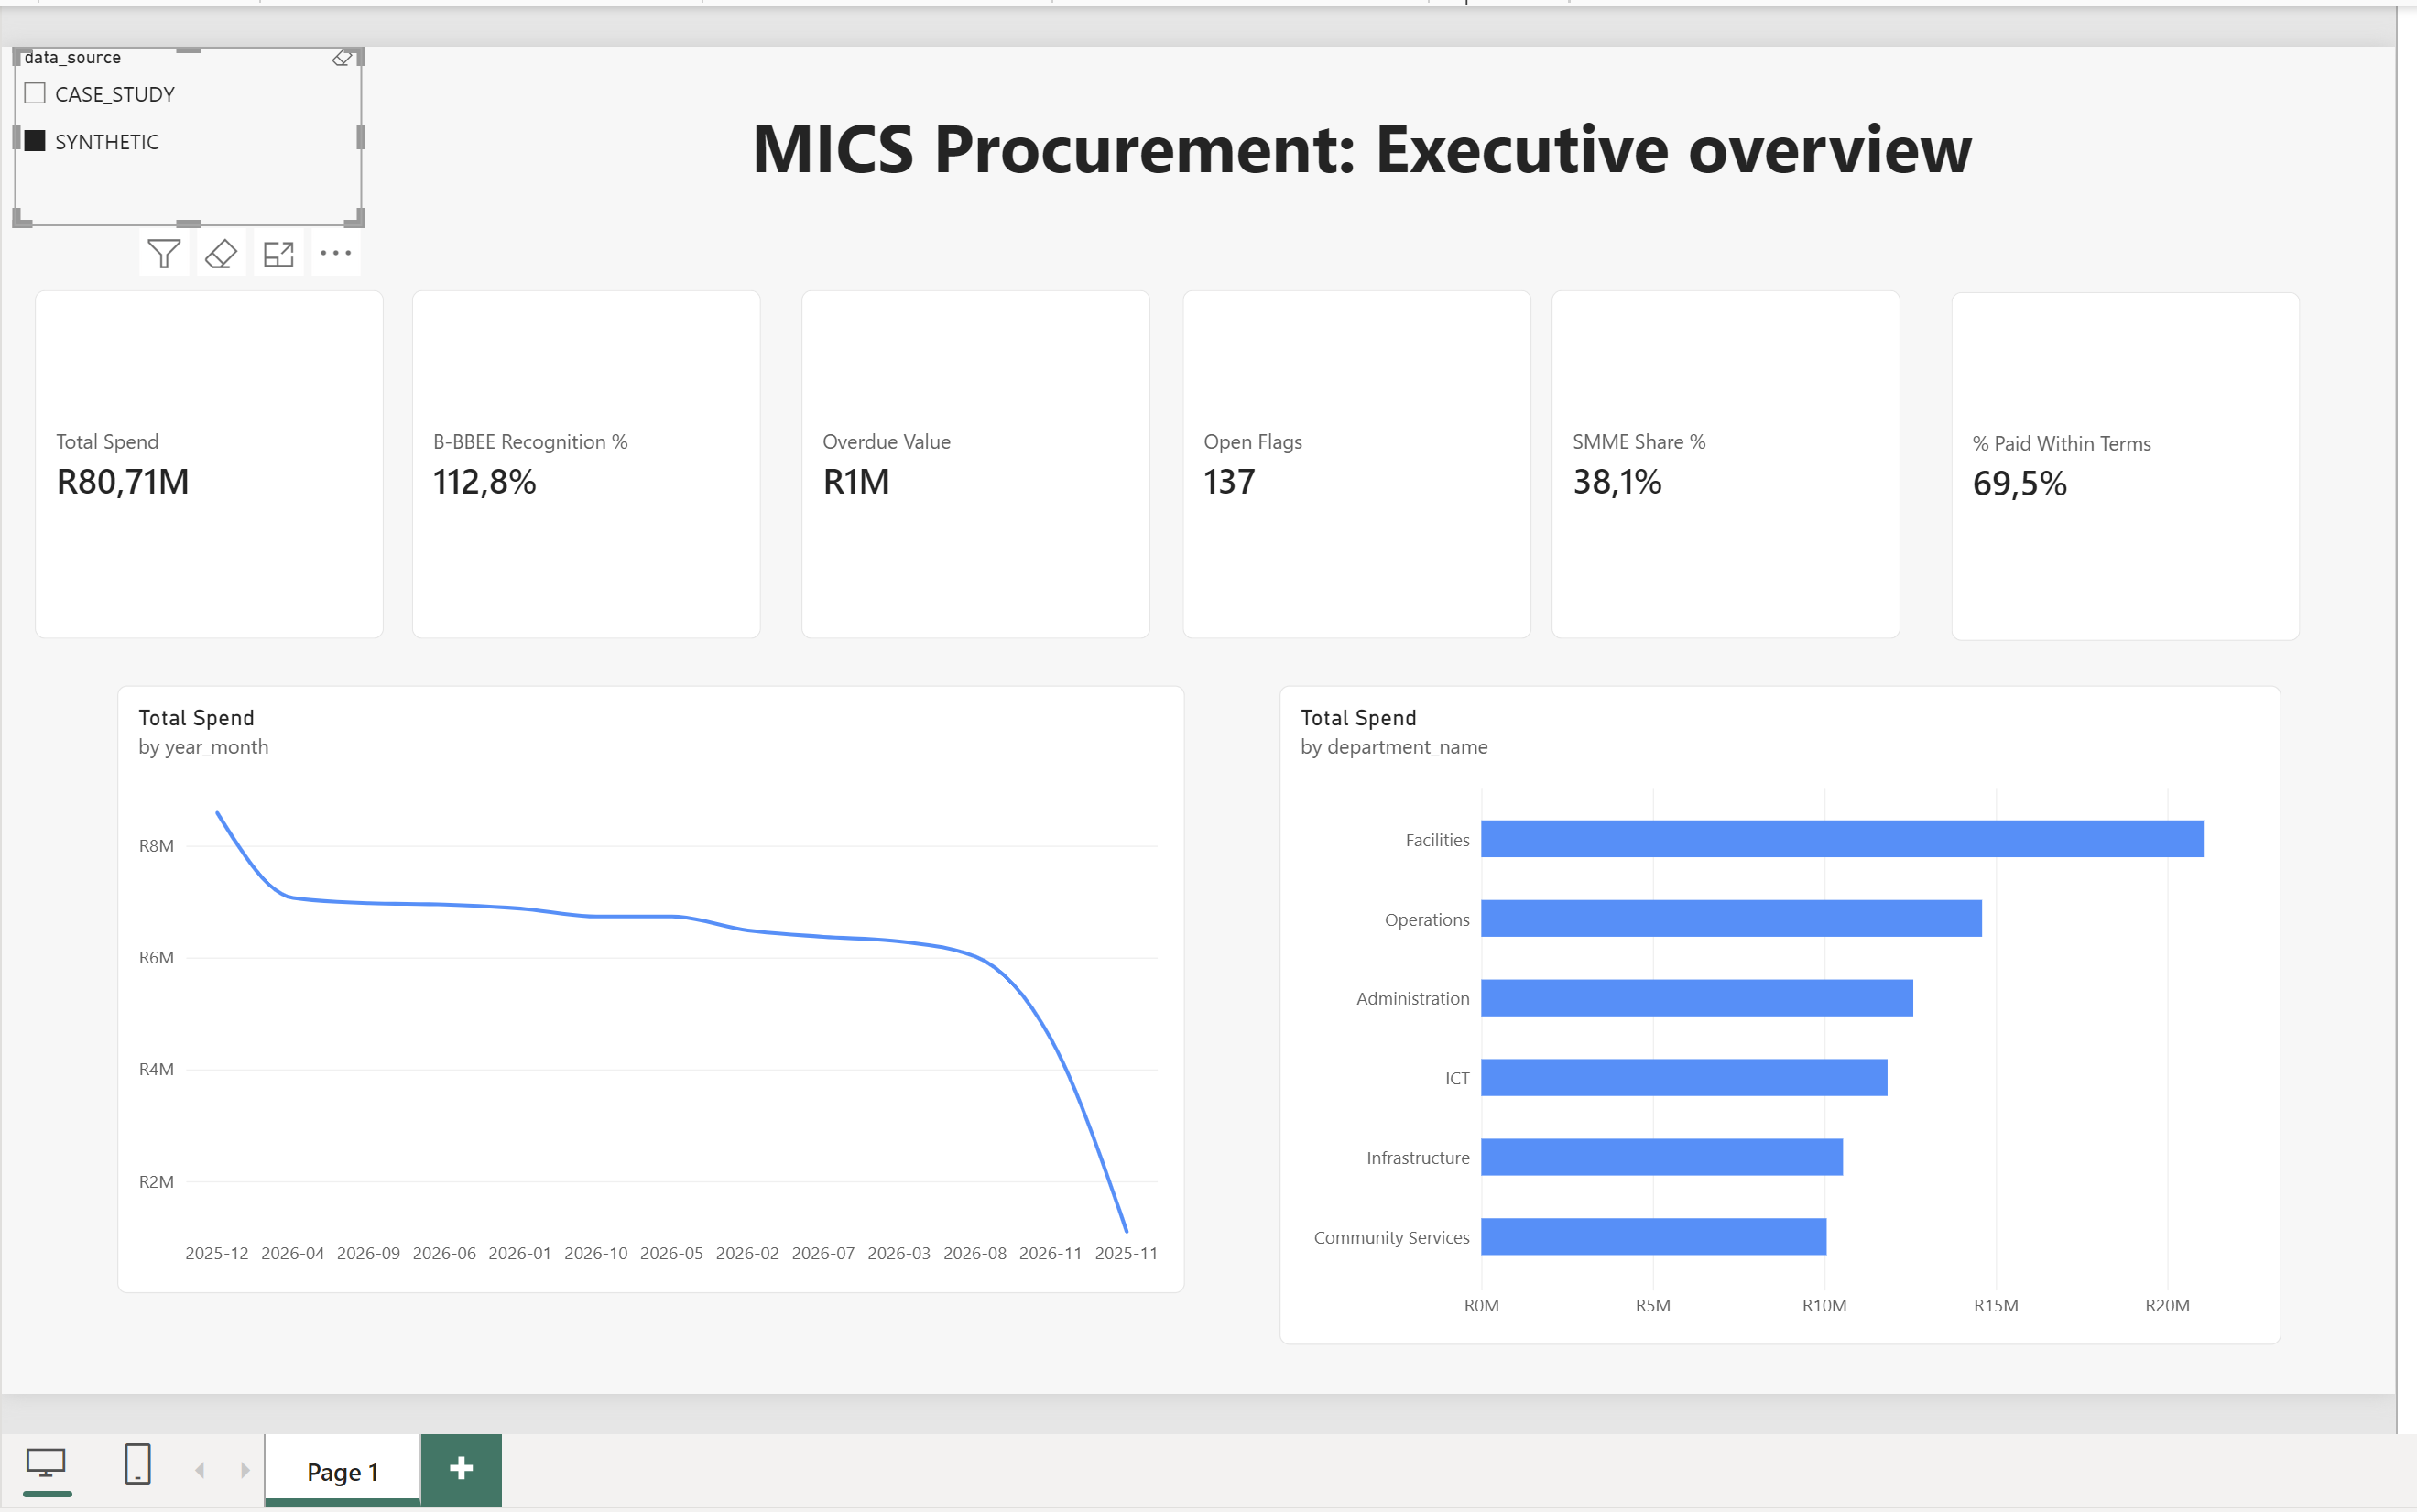

This screenshot's page, from the dashboard's own definition file:
{"tool":"powerbi","page":{"name":"Executive overview","canvas":[1920,1080],"ordinal":0},"visuals":[{"type":"slicer","fields":{"Values":["dim_supplier.data_source"]},"box":[9.9,0,279.4,143.8],"z":0},{"type":"cardVisual","fields":{"Data":["fct_purchase_orders.Total Spend"]},"box":[26.4,195.1,280,280],"z":1000},{"type":"cardVisual","fields":{"Data":["fct_purchase_orders.B-BBEE Recognition %"]},"box":[328.9,195.1,280,280],"z":2000},{"type":"cardVisual","fields":{"Data":["fct_purchase_orders.SMME Share %"]},"box":[1243,195.1,280,280],"z":3000},{"type":"cardVisual","fields":{"Data":["fct_purchase_orders.Overdue Value"]},"box":[641.4,195.1,280,280],"z":4000},{"type":"cardVisual","fields":{"Data":["fct_purchase_orders.Open Flags"]},"box":[947.2,195.1,280,280],"z":5000},{"type":"cardVisual","fields":{"Data":["fct_purchase_orders.% Paid Within Terms"]},"box":[1563.7,196.7,280,280],"z":6000},{"type":"lineChart","title":"Spend over time","fields":{"Category":["dim_date.year_month"],"Y":["fct_purchase_orders.Total Spend"]},"box":[93.3,511.7,866.7,508.3],"z":7000},{"type":"clusteredBarChart","title":"Operations and Infrastructure account for most spend","fields":{"Category":["dim_department.department_name"],"Y":["fct_purchase_orders.Total Spend"]},"box":[1024.8,512.4,803.3,528.9],"z":8000},{"type":"textbox","box":[351.7,43.3,1448.3,121.7],"z":9000}]}

Visuals, with their boxes on the page's 1920x1080 design canvas (x1, y1, x2, y2). These are canvas units, not pixel positions in the 2417x1512 screenshot, which may show the page scaled, cropped or inside an application window:
slicer - dim_supplier.data_source: bbox=[10, 0, 289, 144]
cardVisual - fct_purchase_orders.Total Spend: bbox=[26, 195, 306, 475]
cardVisual - fct_purchase_orders.B-BBEE Recognition %: bbox=[329, 195, 609, 475]
cardVisual - fct_purchase_orders.SMME Share %: bbox=[1243, 195, 1523, 475]
cardVisual - fct_purchase_orders.Overdue Value: bbox=[641, 195, 921, 475]
cardVisual - fct_purchase_orders.Open Flags: bbox=[947, 195, 1227, 475]
cardVisual - fct_purchase_orders.% Paid Within Terms: bbox=[1564, 197, 1844, 477]
"Spend over time" lineChart: bbox=[93, 512, 960, 1020]
"Operations and Infrastructure account for most spend" clusteredBarChart: bbox=[1025, 512, 1828, 1041]
textbox: bbox=[352, 43, 1800, 165]
